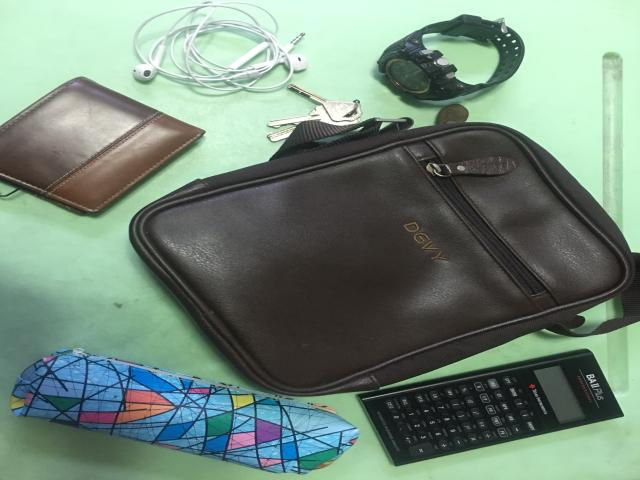Keys: (266, 81, 363, 145)
Wallet: (0, 77, 205, 214)
Watch: (378, 15, 525, 100)
wire: (132, 1, 307, 91)
